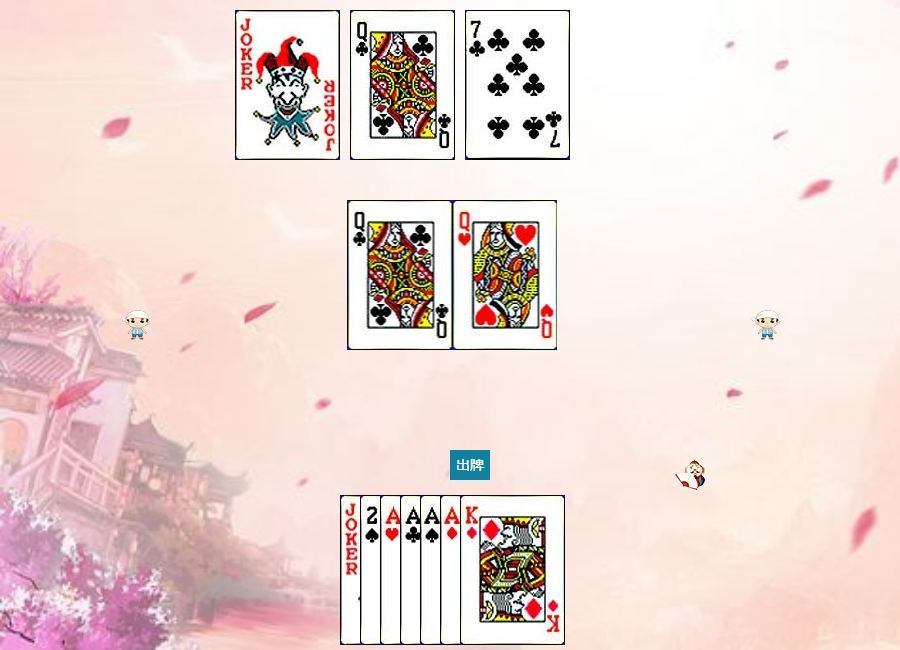12~2: (350, 10, 455, 160), (348, 200, 453, 350)
12~3: (453, 200, 558, 350)
13~1: (460, 495, 565, 645)
14~1: (440, 495, 545, 645)
14~2: (400, 495, 505, 645)
14~3: (380, 495, 485, 645)
14~4: (420, 495, 525, 645)
15~4: (360, 495, 465, 645)
18~4: (235, 10, 340, 160), (340, 495, 445, 645)
7~2: (465, 10, 570, 160)
